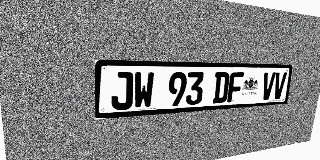3: (185, 72, 204, 105)
9: (168, 72, 187, 107)
D: (212, 72, 230, 103)
F: (227, 72, 244, 102)
J: (111, 72, 133, 110)
V: (260, 72, 276, 100), (272, 72, 287, 99)
W: (133, 72, 154, 109)
